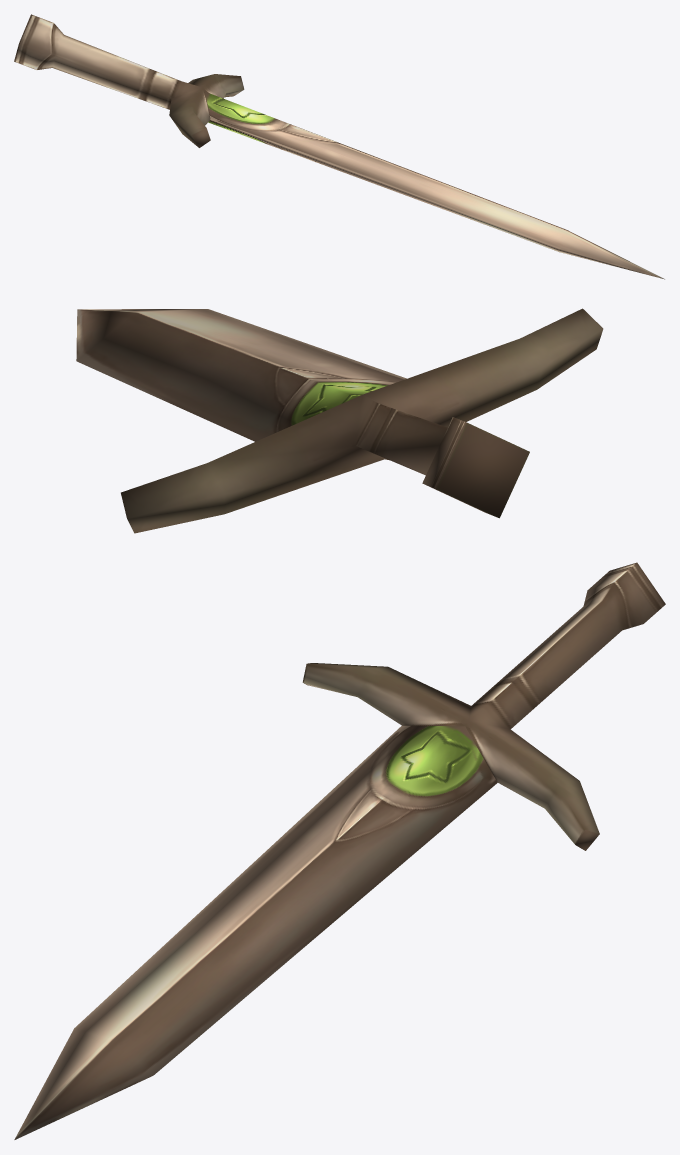
File: Sword(7).obj
The picture shows the model from 3 angles, top to bottom: view 1: azimuth 30°, elevation 25°; view 2: azimuth 150°, elevation 25°; view 3: azimuth 270°, elevation 25°; orthographic projection. The views are drawn at different scales.
Visible parts, largest first — view 1: sword1_LOD003; view 2: sword1_LOD003; view 3: sword1_LOD003.
Part boxes in pixels (x1,y1,x2,y2): sword1_LOD003: (14,14,664,279); sword1_LOD003: (76,308,603,533); sword1_LOD003: (14,562,665,1139).
Size of the model in its own units: 1 by 0.4519 by 0.9169.
